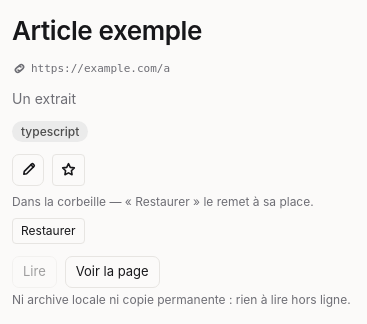
Test: DetailPane — la fiche d'un signet corbeillé › après une restauration réussie, la fiche relit le signet — plus de « Restaurer »
Expected: the heading "Article exemple" is shown, [12,15,202,46]
Click the button "Restaurer".
click(48, 231)  # box [12,218,84,244]
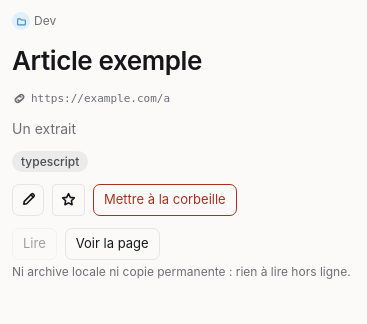
Expected: the button "Mettre à la corbeille" is shown, [93,184,237,216]
Expected: the message "Restaurer" is gone
